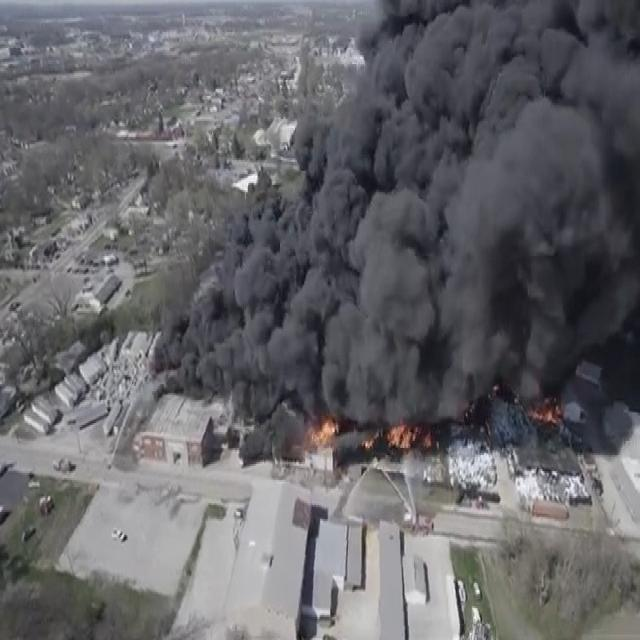Fire: (294, 399, 446, 469), (524, 383, 560, 433)
Smoke: (376, 0, 640, 356), (302, 124, 503, 409), (231, 247, 373, 391), (179, 303, 259, 382)
